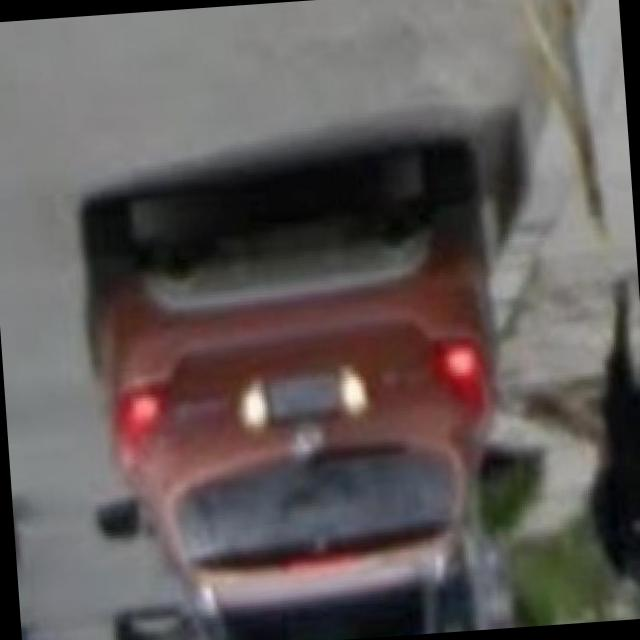car: (55, 133, 532, 640)
